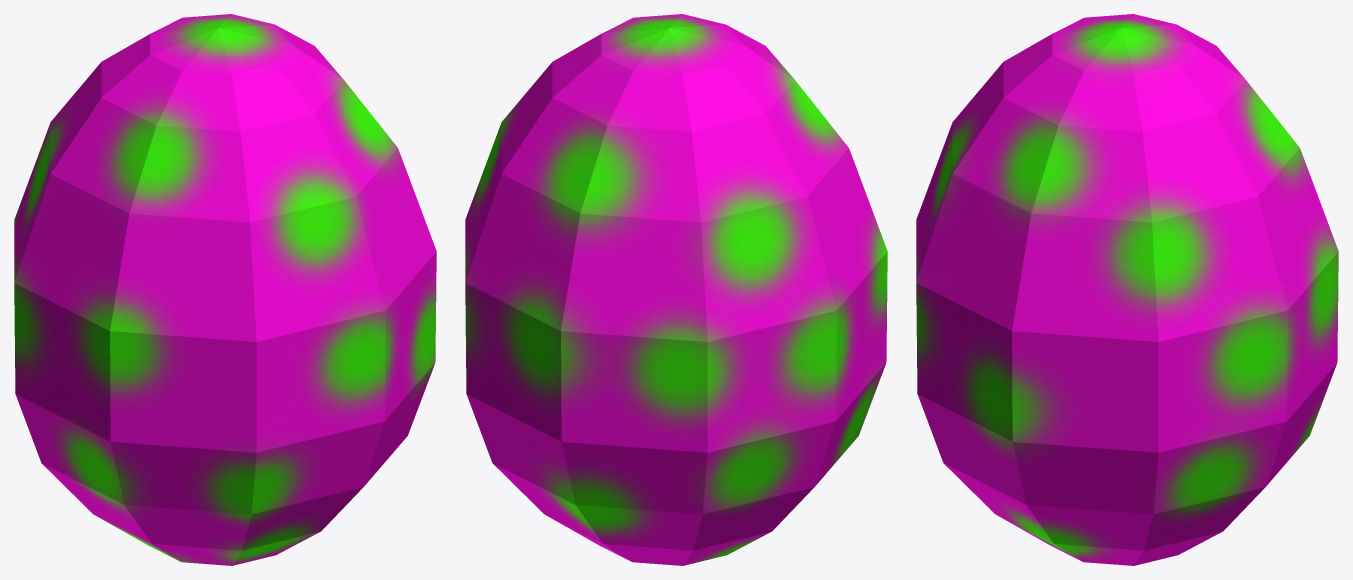
File: egg_dots.glb
The picture shows the model from 3 angles, left to right: view 1: azimuth 30°, elevation 25°; view 2: azimuth 150°, elevation 25°; view 3: azimuth 270°, elevation 25°; orthographic projection.
Parts seen in each view (by area): view 1: Ei; view 2: Ei; view 3: Ei.
Boxes of the visible parts, x1=… form: Ei: x1=14, y1=14, x2=436, y2=565; Ei: x1=465, y1=14, x2=887, y2=565; Ei: x1=916, y1=14, x2=1338, y2=565.
Bounding box in the file's own units: 0.3486 × 0.4649 × 0.3433.
1 material, 1 textured.
